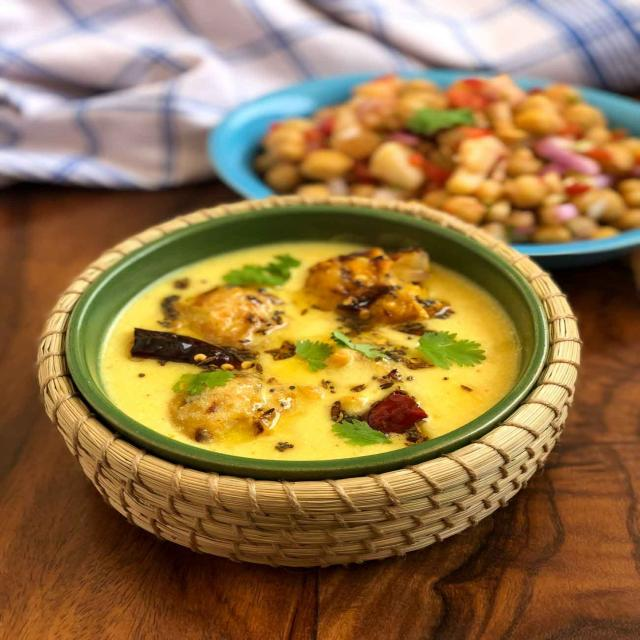Kadhi Pakora: (99, 238, 524, 466)
